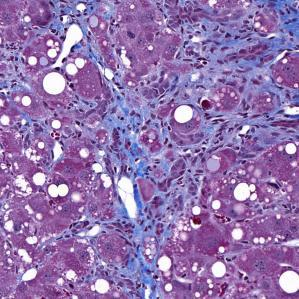fibrosis: (92, 27, 279, 166), (76, 144, 201, 276)
